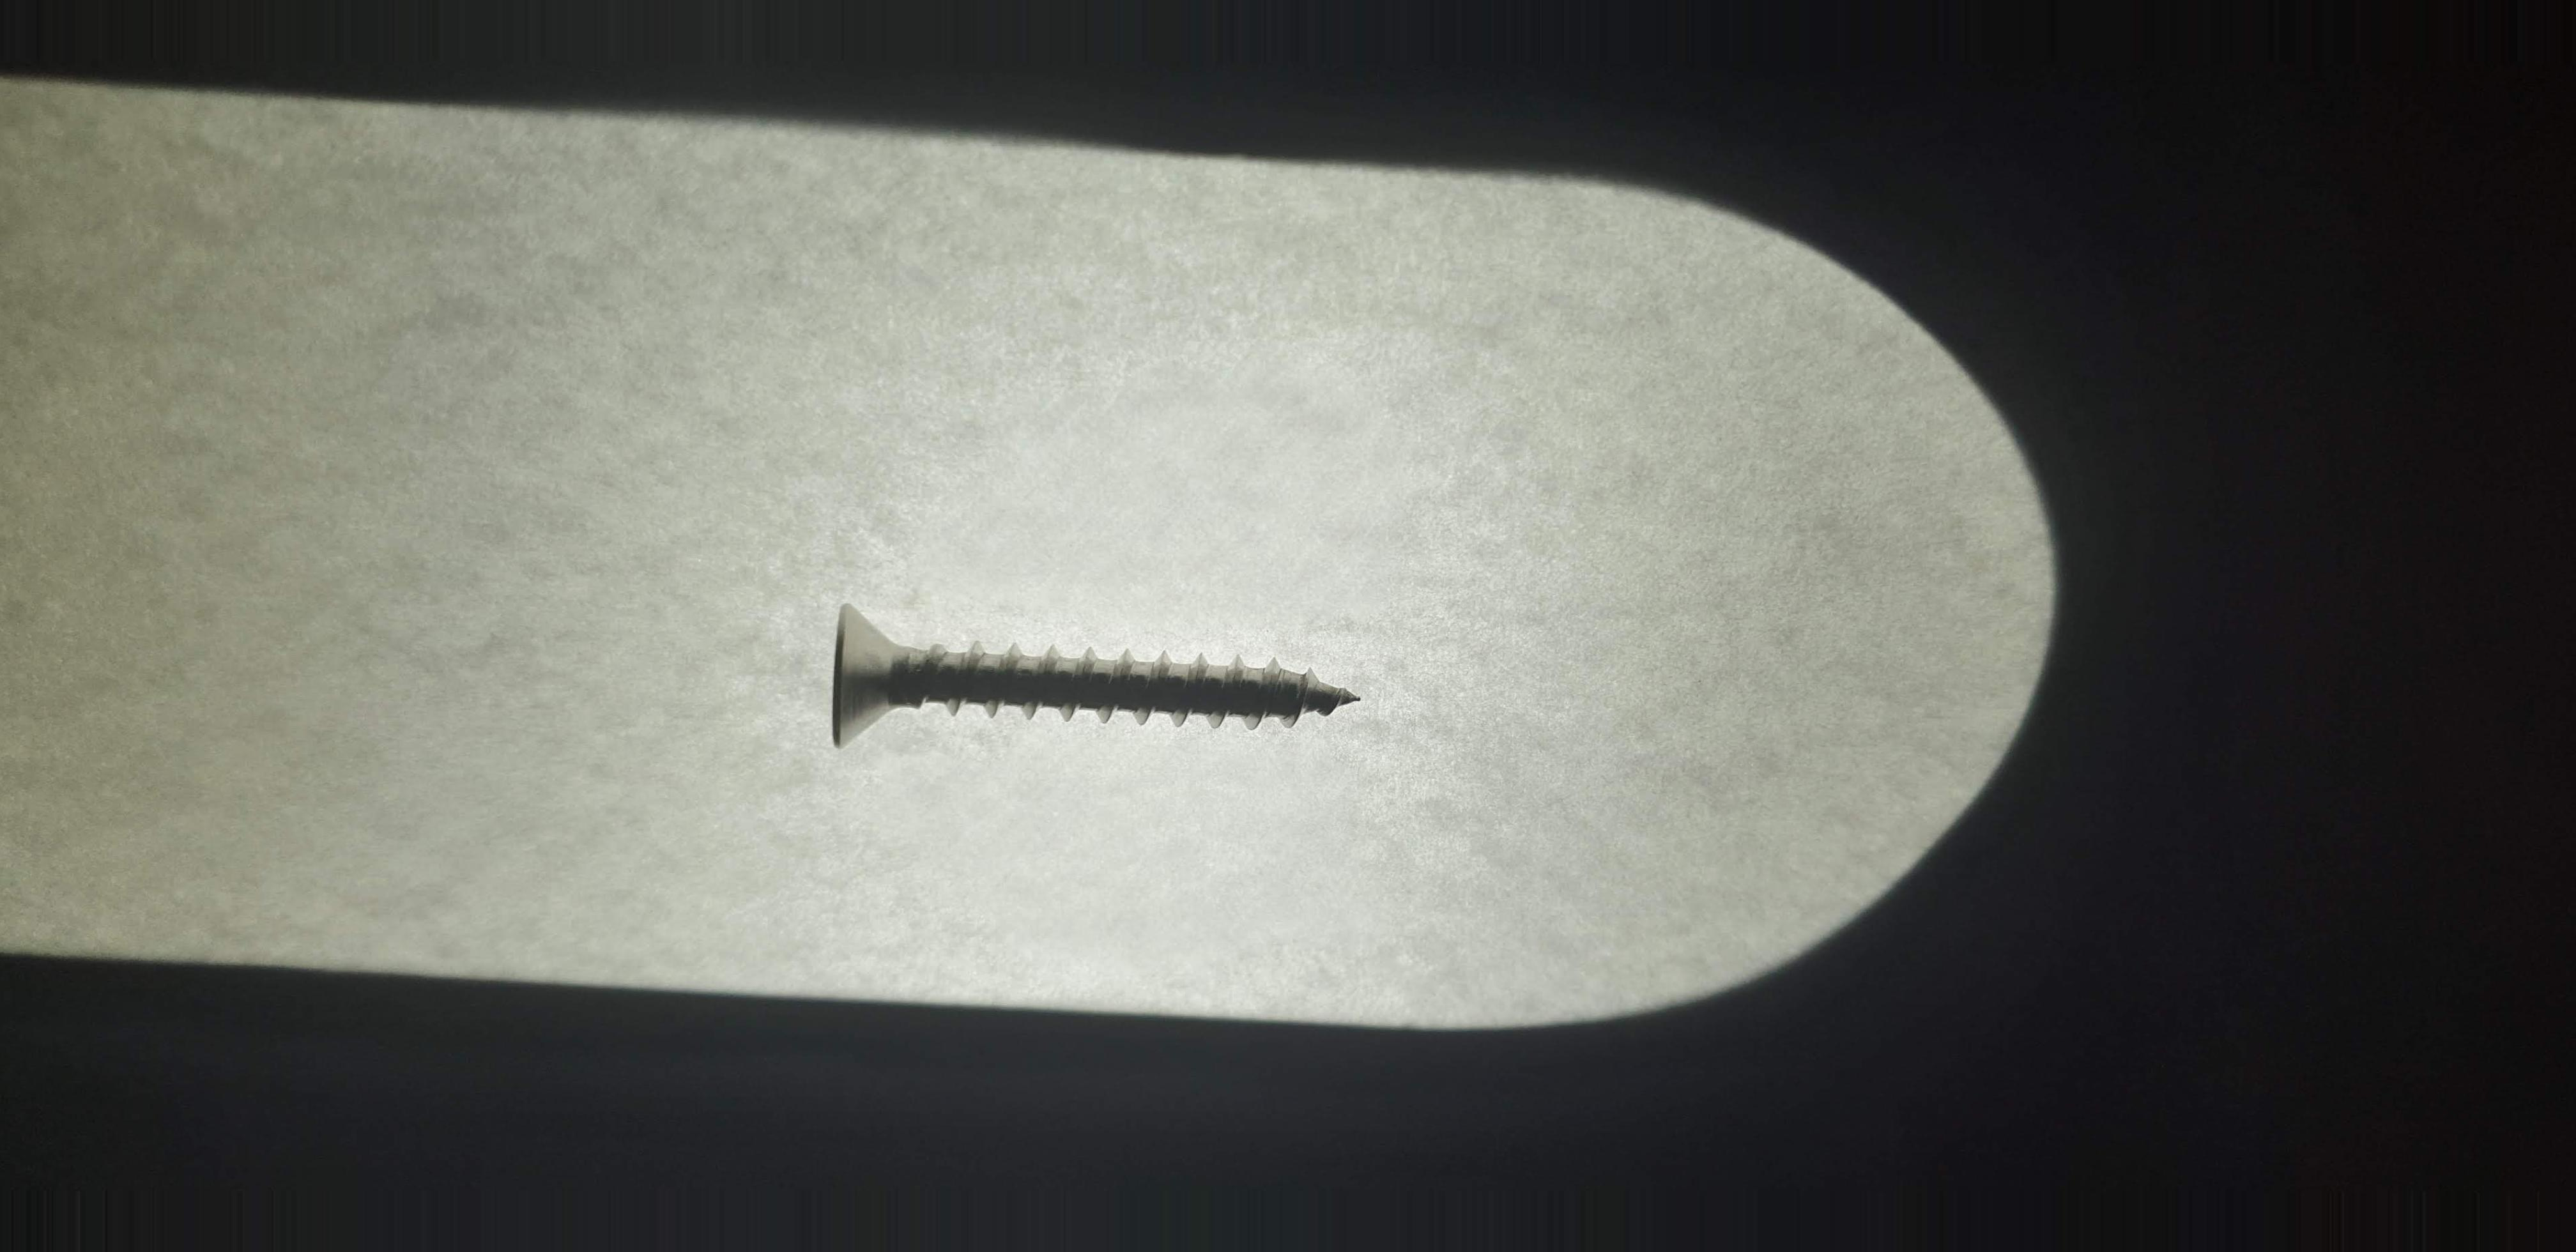S004: (770, 549, 1406, 823)
